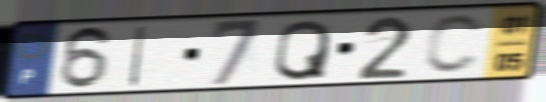2: (357, 12, 416, 82)
6: (59, 23, 121, 93)
7: (208, 16, 266, 89)
C: (421, 12, 488, 76)
I: (125, 23, 151, 90)
Q: (271, 17, 334, 83)
